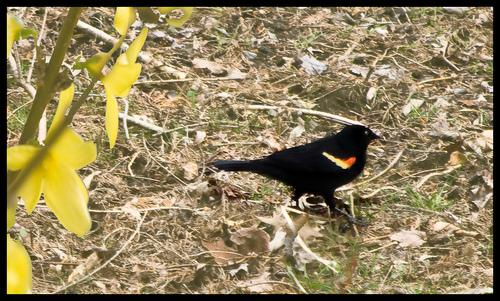010.Red_winged_Blackbird: (200, 124, 380, 225)
